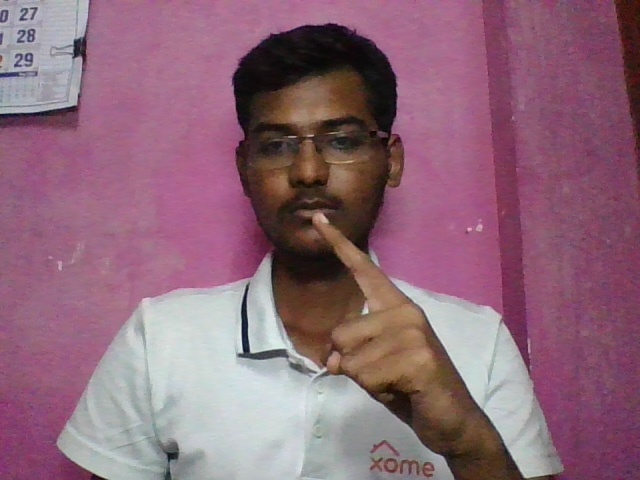Hello: (297, 204, 522, 480)
